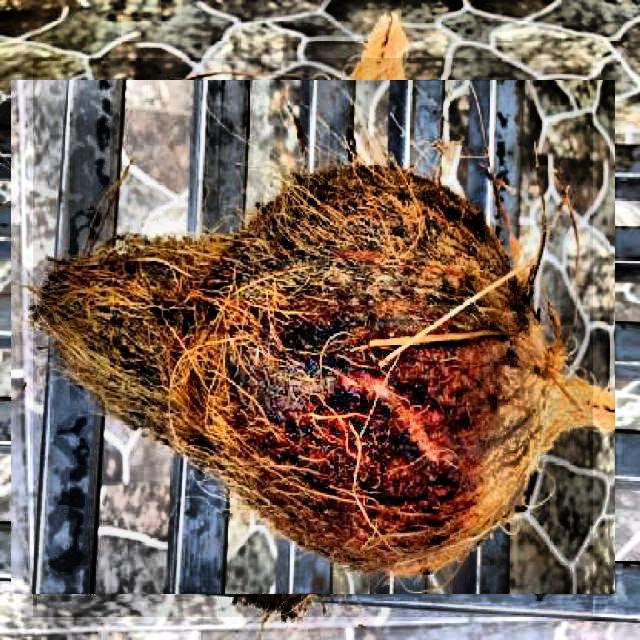cracked-coconut: (152, 165, 556, 568)
